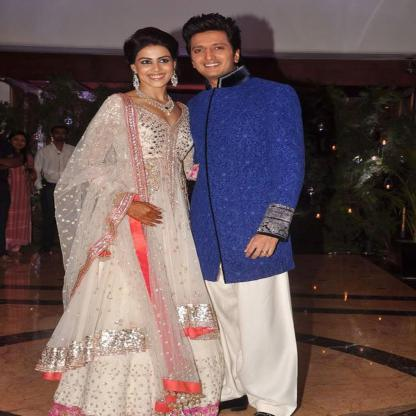face: (191, 31, 235, 78), (137, 45, 175, 89), (11, 136, 27, 150), (54, 129, 68, 142)
